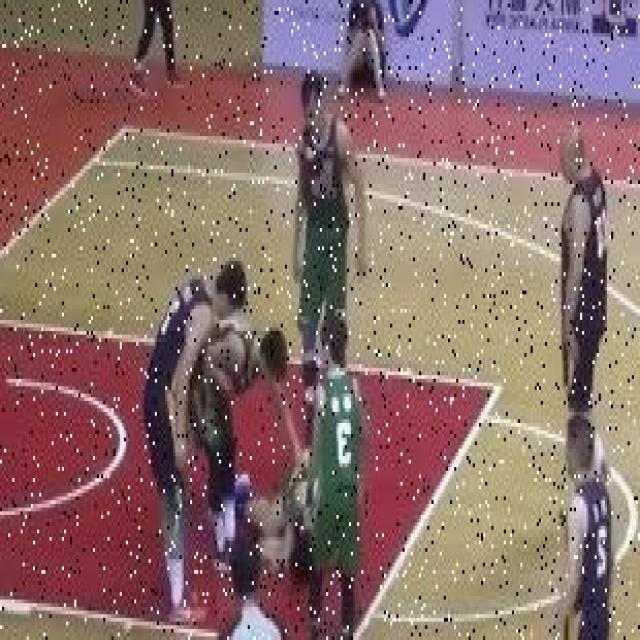fall: (240, 452, 336, 578)
